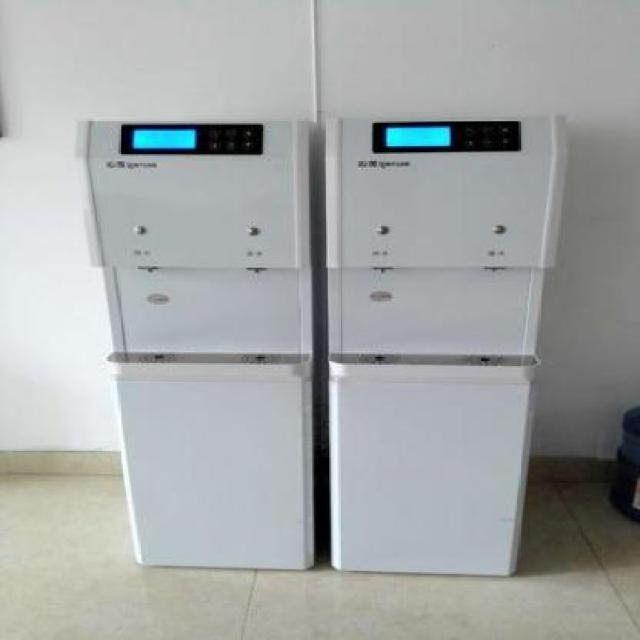cooler: (328, 112, 575, 580), (71, 114, 320, 572)
